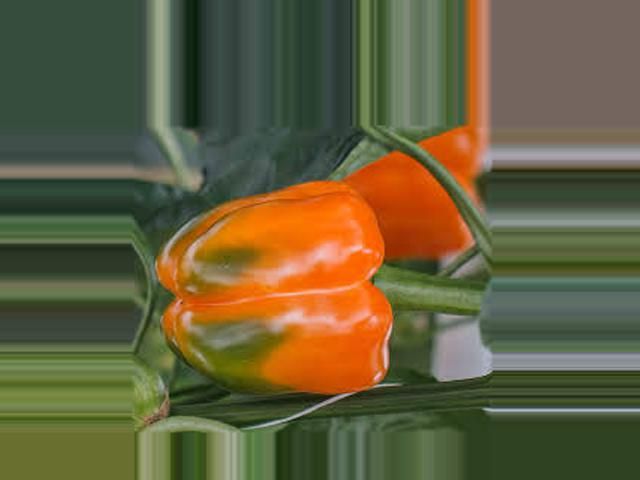bell_pepper: (137, 170, 418, 422)
